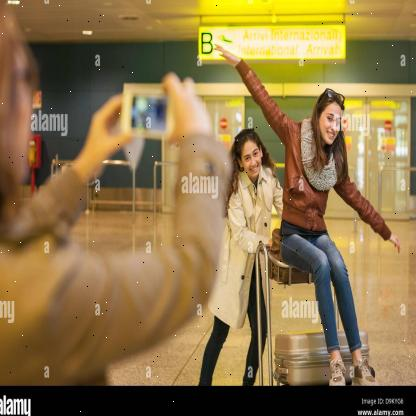airport-trolley: (252, 233, 377, 385)
